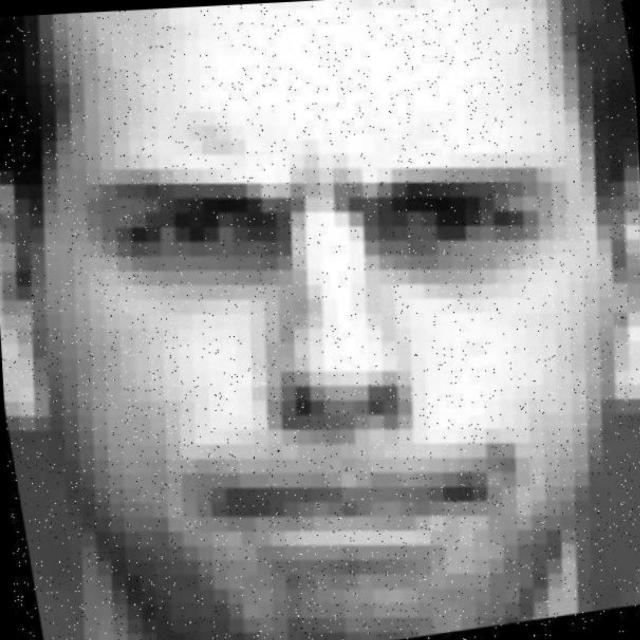Angry: (9, 28, 640, 620)
